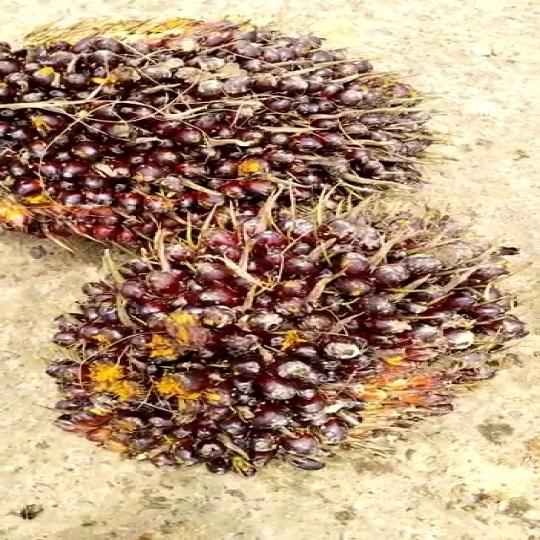kurang masak: (39, 226, 540, 472), (1, 12, 448, 256)
